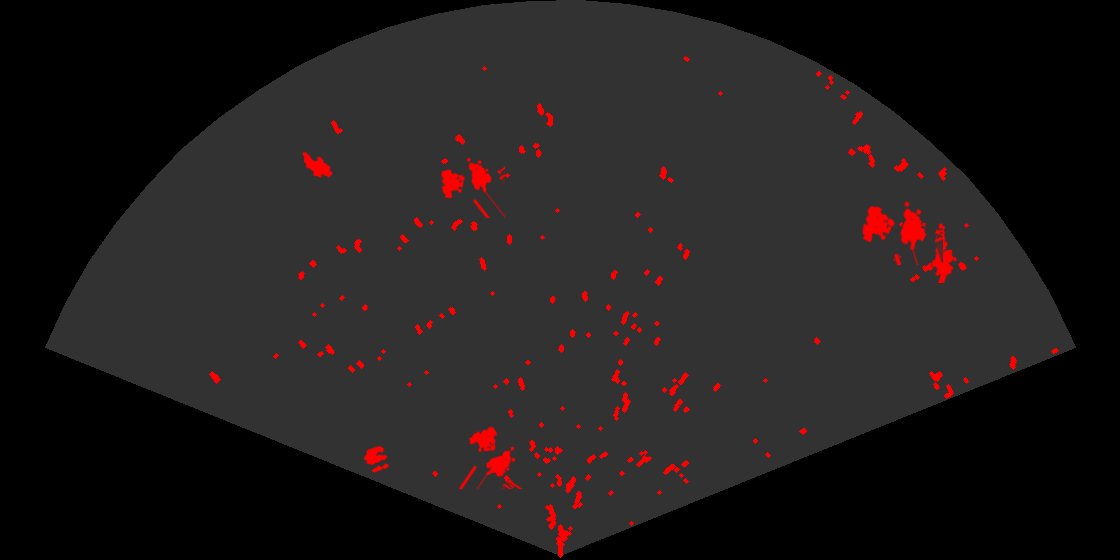AUV: (301, 150, 334, 179)
ball: (362, 444, 391, 474)
cage: (860, 199, 943, 265), (457, 425, 524, 489), (439, 156, 505, 218)
frogman: (930, 221, 959, 283)
